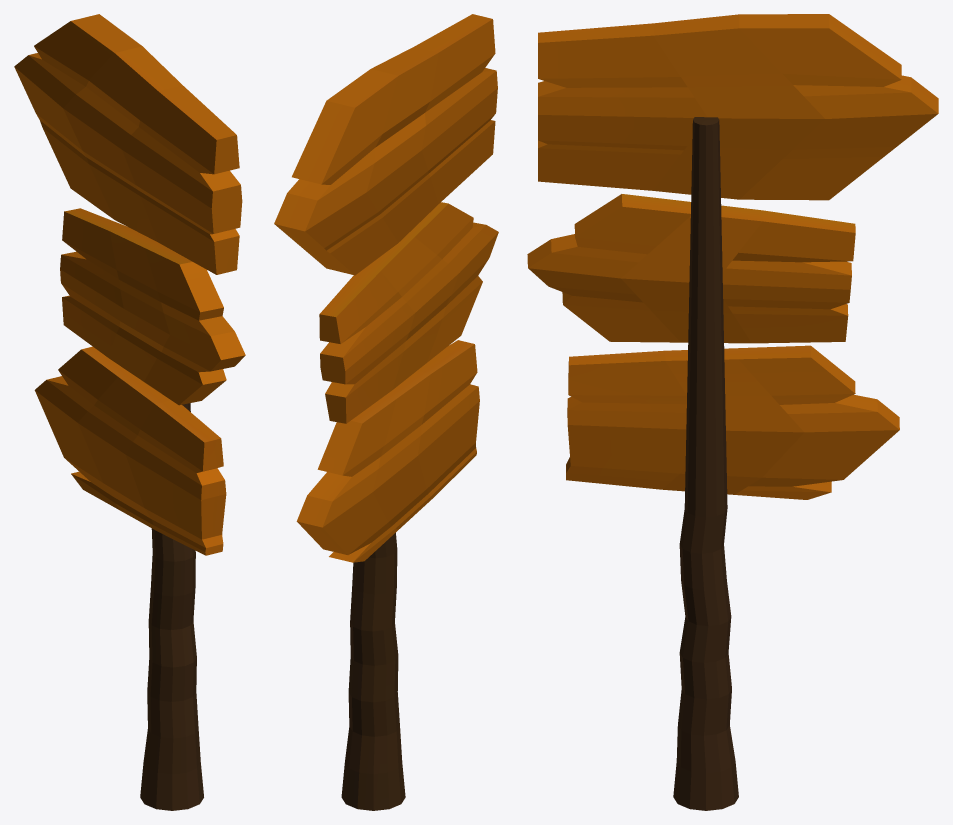
Rendered from PLACA.fbx.
3 views of the same model, side by side, from view 1: azimuth 30°, elevation 25°; view 2: azimuth 150°, elevation 25°; view 3: azimuth 270°, elevation 25° (orthographic). The views are drawn at different scales.
Visible parts, largest first — view 1: Palaca; view 2: Palaca; view 3: Palaca.
Part boxes in pixels (left/top/right/bottom): Palaca: left=14, top=14, right=245, bottom=810; Palaca: left=274, top=14, right=498, bottom=810; Palaca: left=527, top=14, right=938, bottom=810.
Size of the model in its own units: 38.02 by 343 by 168.
